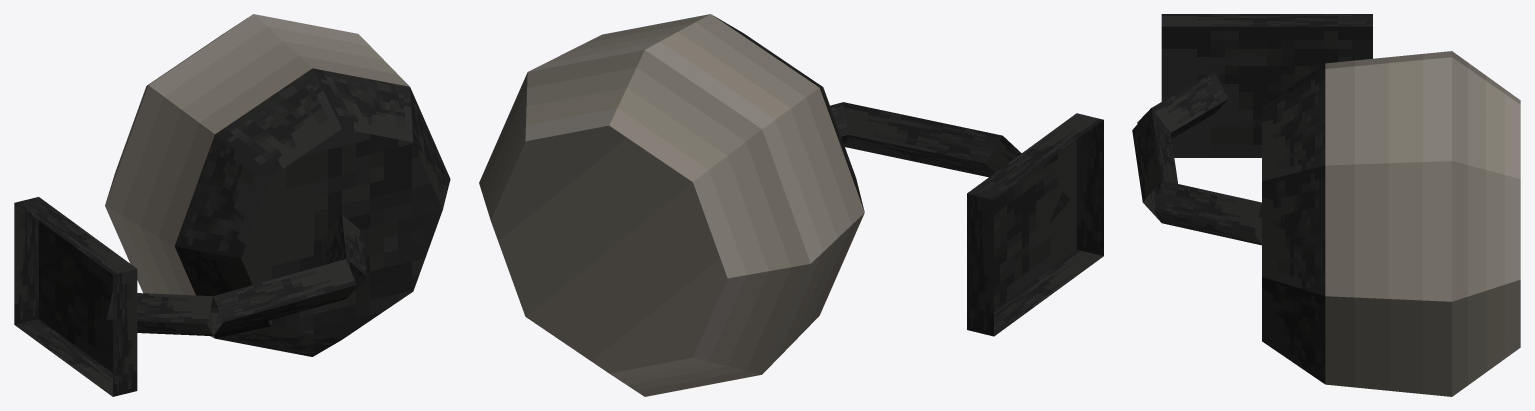
Rendered from pz_native_lighting_outdoor_01_25_wall_lamp.obj.
3 renders of one model, left to right at view 1: azimuth 30°, elevation 25°; view 2: azimuth 150°, elevation 25°; view 3: azimuth 270°, elevation 25°, orthographic. The views are drawn at different scales.
Parts seen in each view (by area): view 1: pz_native_lighting_outdoor_01_25_wall_lamp; view 2: pz_native_lighting_outdoor_01_25_wall_lamp; view 3: pz_native_lighting_outdoor_01_25_wall_lamp.
Boxes of the visible parts, <box> form: pz_native_lighting_outdoor_01_25_wall_lamp: <box>14,14,450,396</box>; pz_native_lighting_outdoor_01_25_wall_lamp: <box>479,14,1103,396</box>; pz_native_lighting_outdoor_01_25_wall_lamp: <box>1132,14,1520,396</box>.
Size of the model in its own units: 0.3777 by 0.2644 by 0.279.
Materials: 1 (1 with a texture image).
